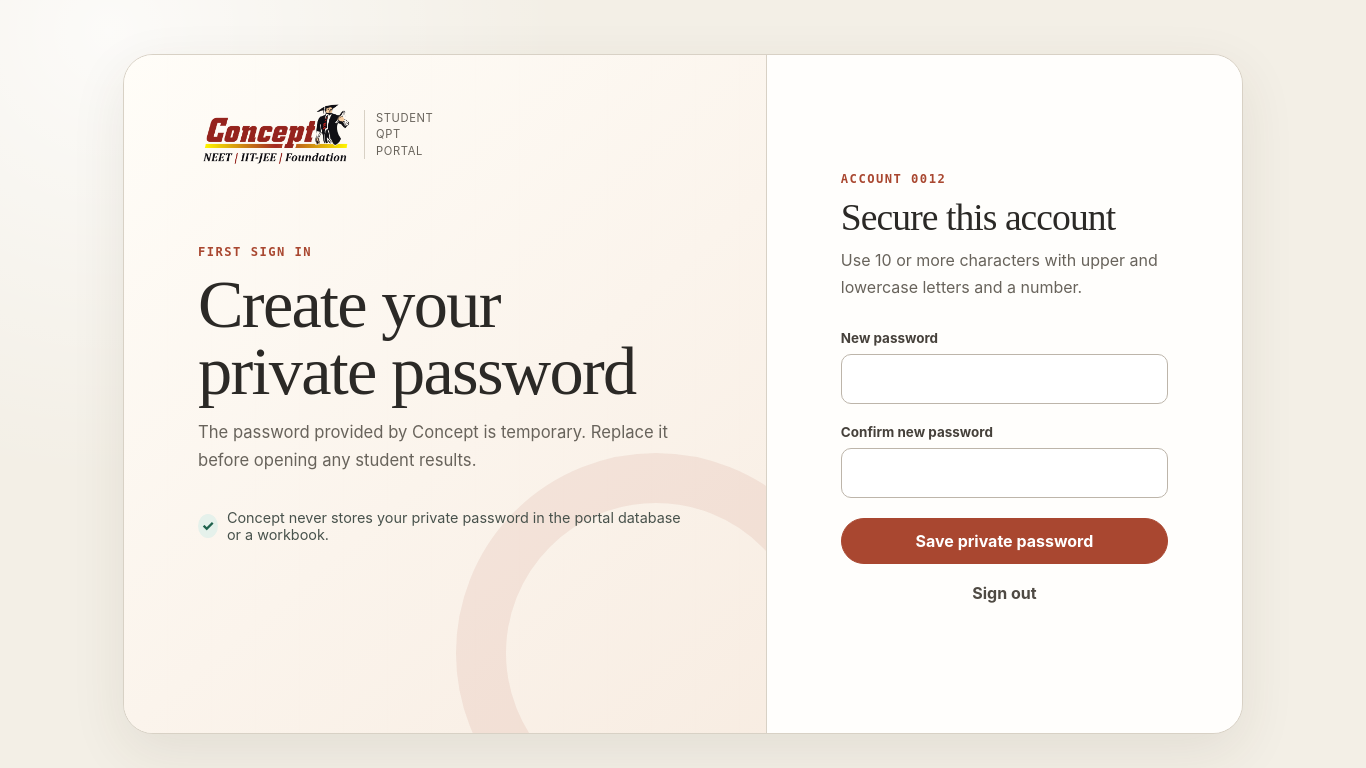
Test: student portal › forces a Concept-issued temporary password to be replaced before results load
The width and height of the screenshot is (1366, 768).
Expected: the heading "Create your private password" is shown, x1=198 y1=271 x2=692 y2=405
Expected: the picture named "Concept Institute" is shown, x1=198 y1=103 x2=352 y2=166
Type "NewSecurePass9" into the password field labelled "New password" at (1004, 379), box x1=841 y1=354 x2=1168 y2=404
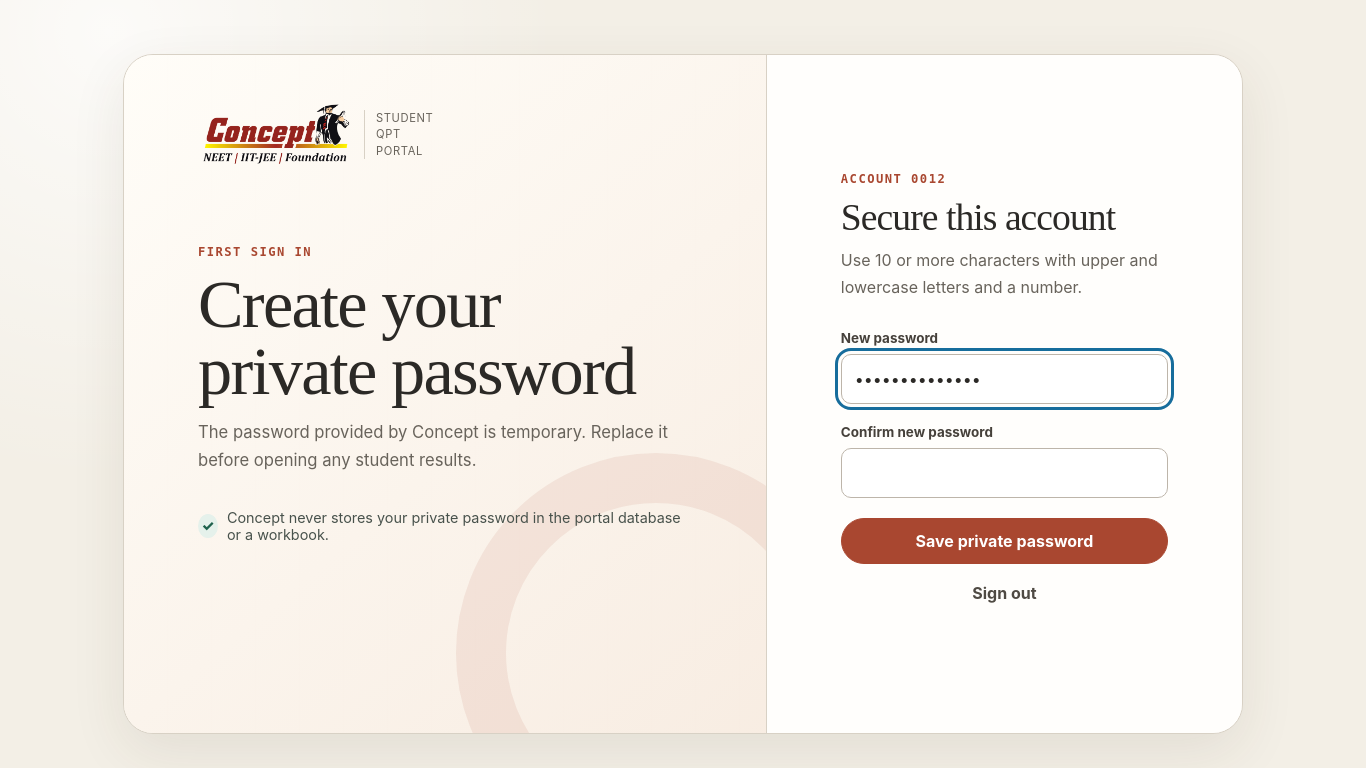
Type "NewSecurePass9" into the password field labelled "Confirm new password" at (1004, 473), box x1=841 y1=448 x2=1168 y2=498
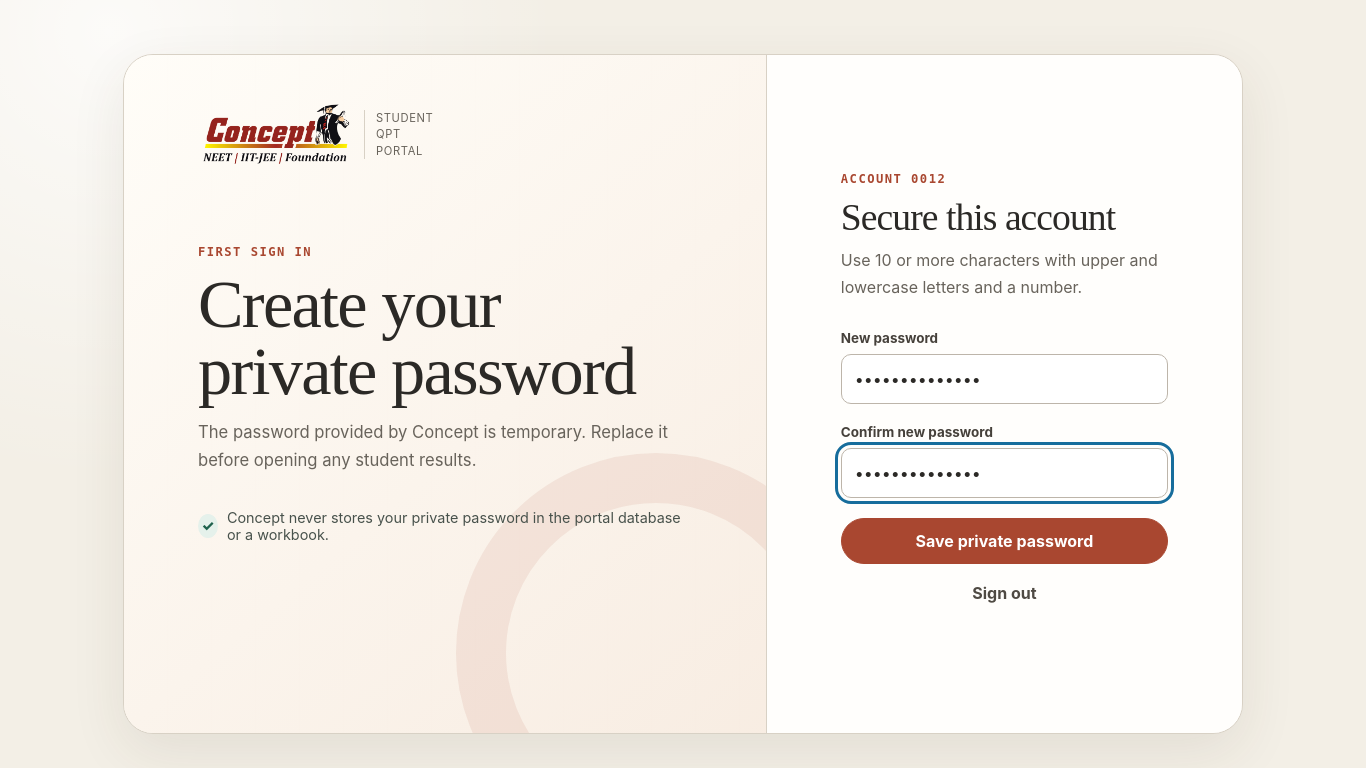
Click the button "Save private password" at (1004, 541), box x1=841 y1=518 x2=1168 y2=564
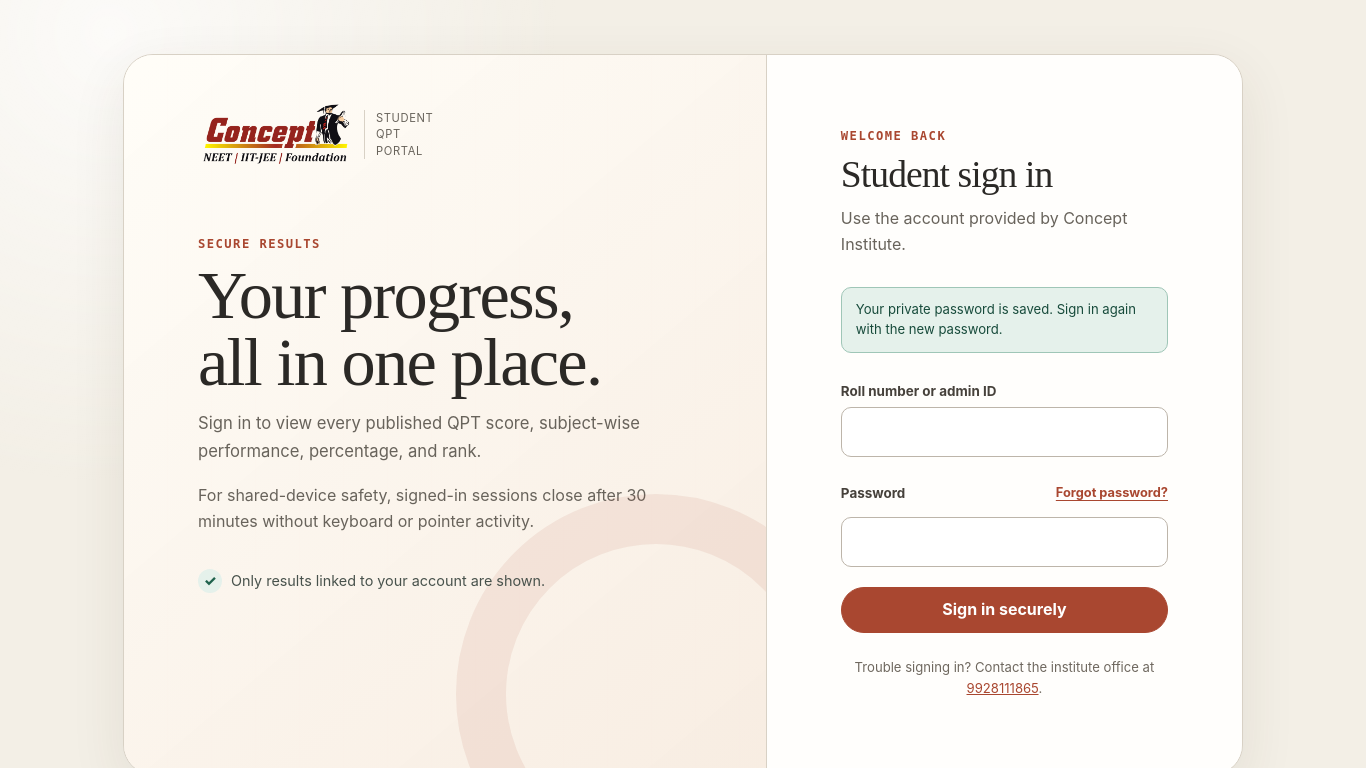
Now the heading "Student sign in" is shown, box x1=841 y1=154 x2=1052 y2=195
Now the text "Your private password is saved. Sign in again with the new password." is shown, box x1=841 y1=287 x2=1168 y2=353
Type "0012" into the field labelled "Roll number or admin ID" at (1004, 432), box x1=841 y1=407 x2=1168 y2=457
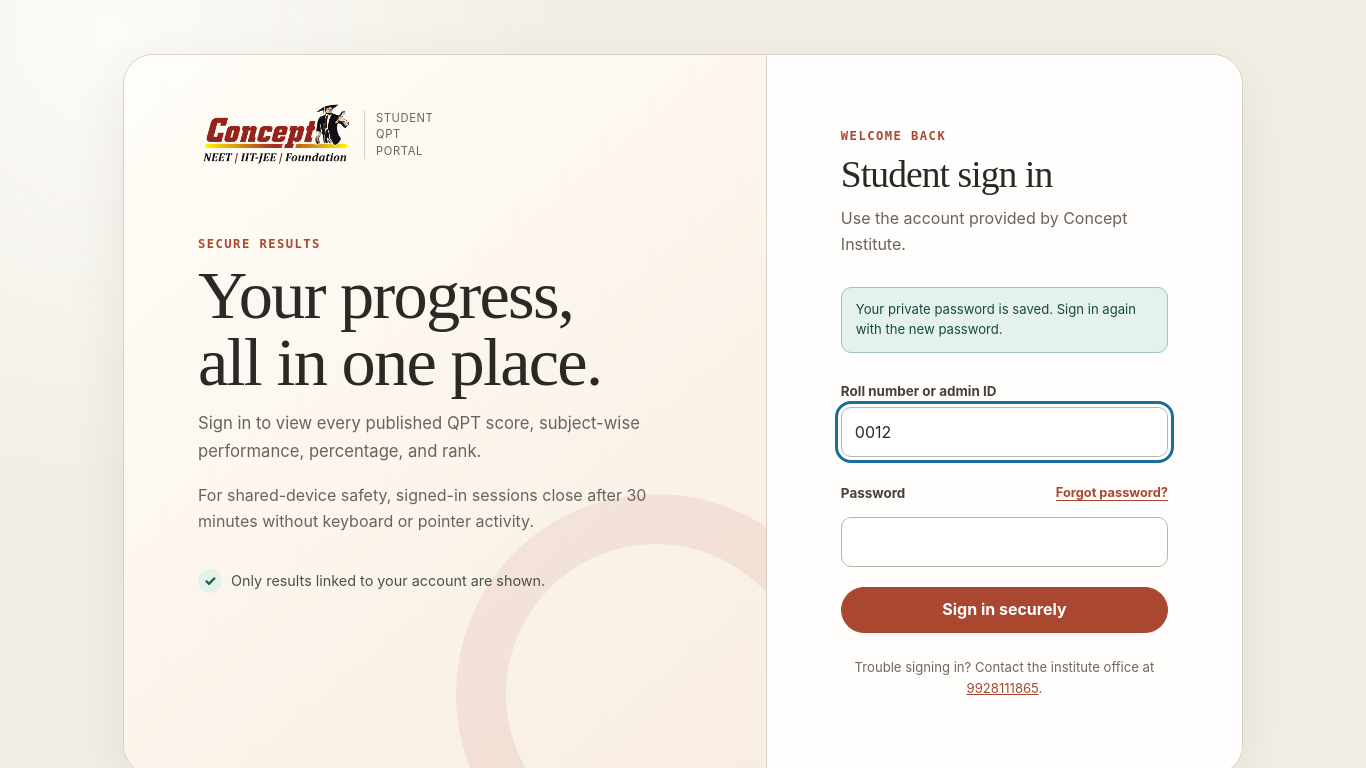
Type "NewSecurePass9" into the password field labelled "Password" at (1004, 542), box x1=841 y1=517 x2=1168 y2=567
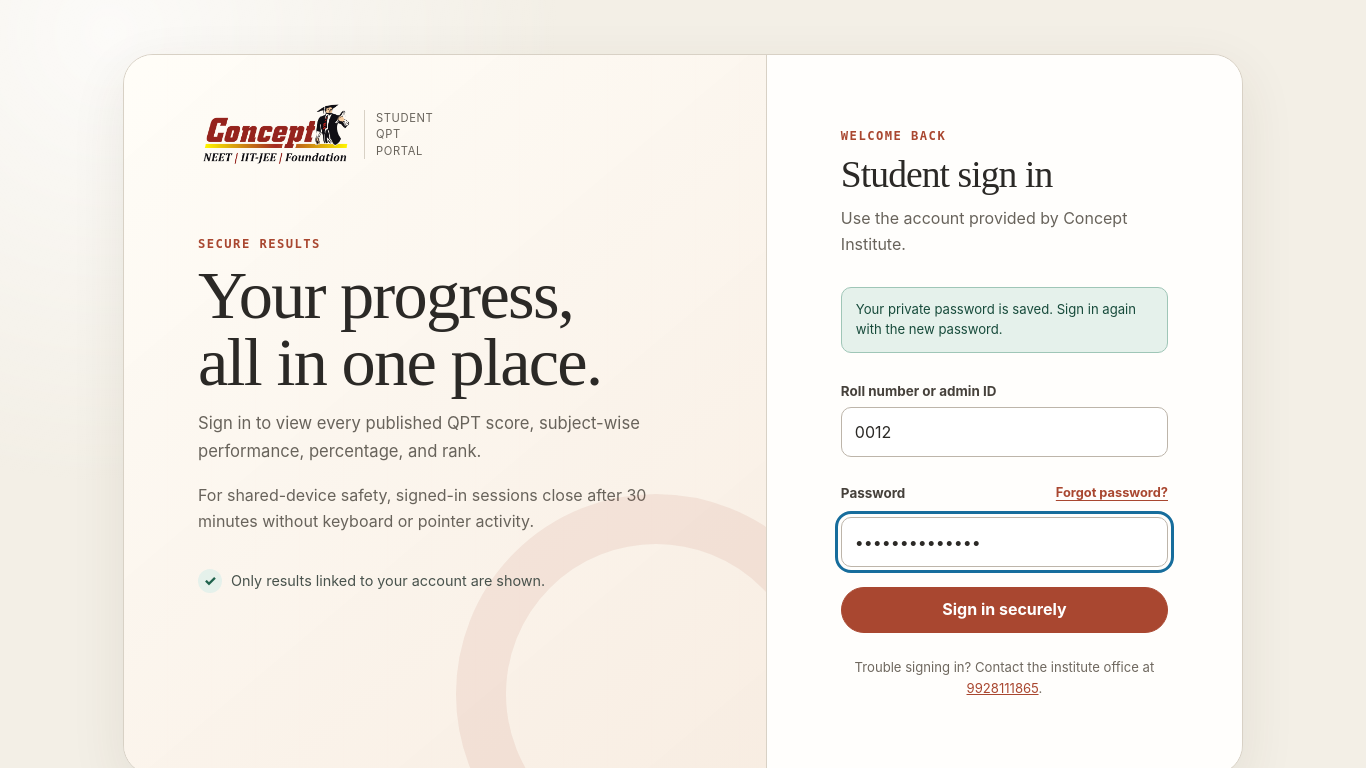
Click the button "Sign in securely" at (1004, 610), box x1=841 y1=587 x2=1168 y2=633
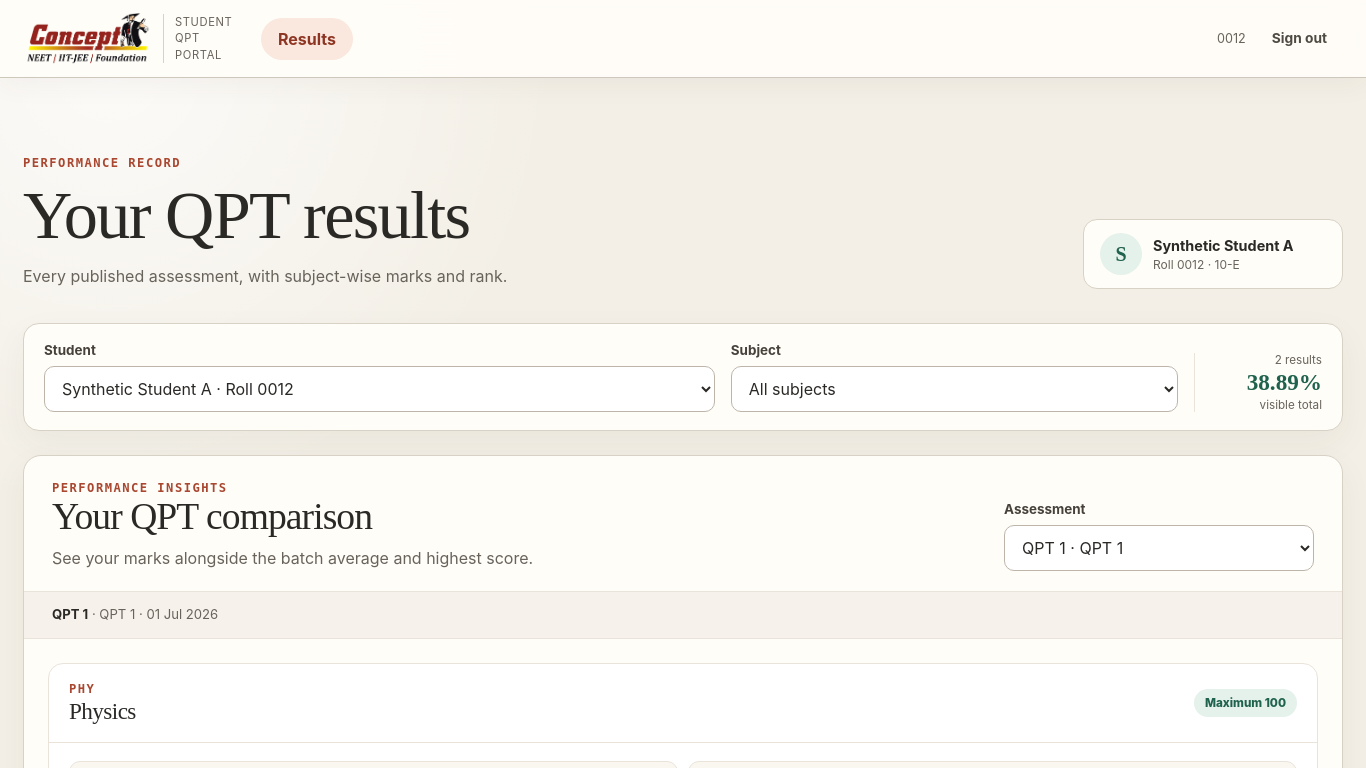
Now the heading "Your QPT results" is shown, box x1=23 y1=182 x2=507 y2=249
